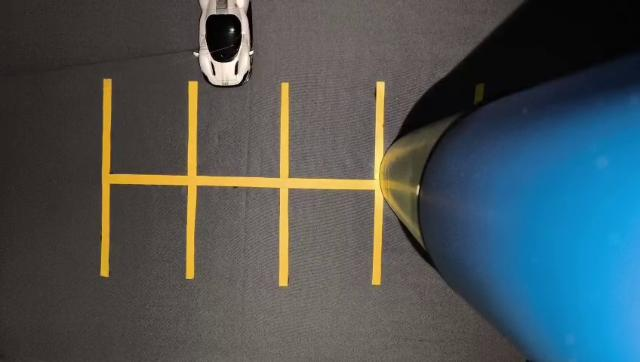toy_car: (180, 0, 289, 95)
